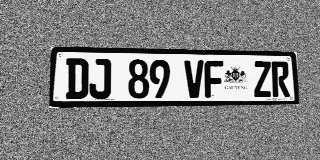8: (128, 59, 149, 98)
9: (150, 59, 170, 98)
D: (65, 58, 88, 99)
F: (204, 60, 224, 98)
J: (89, 59, 111, 99)
R: (271, 61, 290, 97)
V: (184, 60, 204, 98)
Z: (253, 61, 272, 97)
